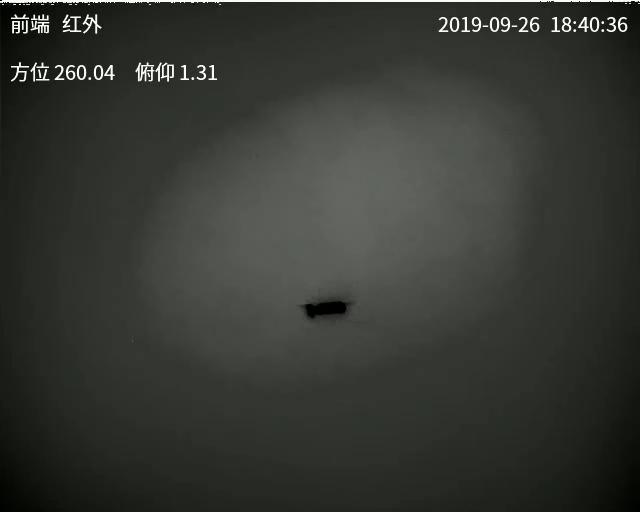uav: (303, 296, 369, 320)
